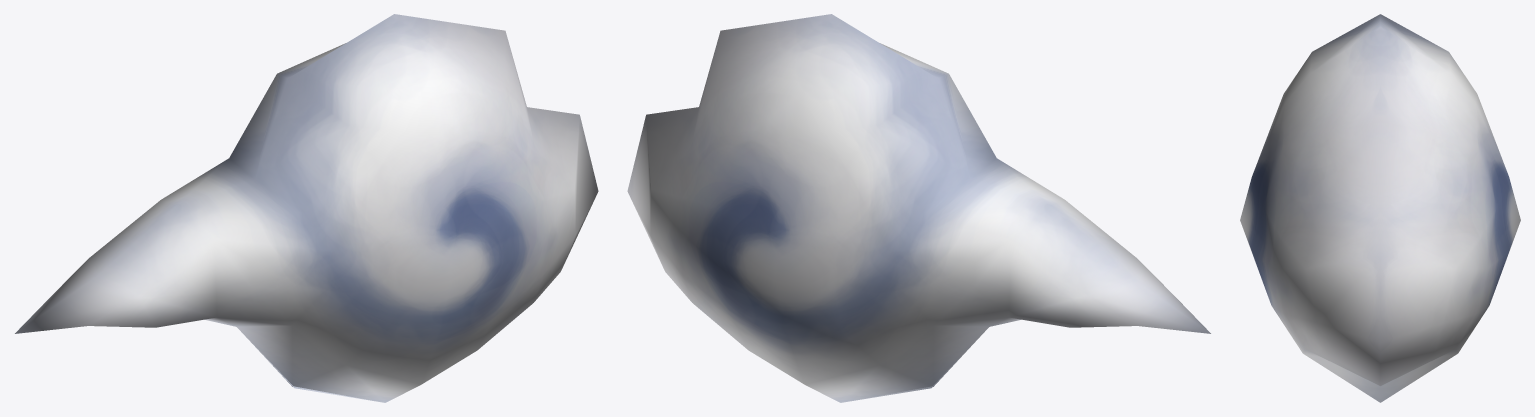
Rendered from Mist-Mesh.fbx.
3 views of the same model, side by side, from view 1: azimuth 30°, elevation 25°; view 2: azimuth 150°, elevation 25°; view 3: azimuth 270°, elevation 25° (orthographic). The views are drawn at different scales.
Parts seen in each view (by area): view 1: Mist-Mesh; view 2: Mist-Mesh; view 3: Mist-Mesh.
Boxes of the visible parts, left/top/right/bottom form: Mist-Mesh: left=15, top=14, right=598, bottom=402; Mist-Mesh: left=627, top=14, right=1210, bottom=402; Mist-Mesh: left=1240, top=14, right=1520, bottom=402.
Bounding box in the file's own units: 1391 × 880 × 600.
Materials: 1 (1 with a texture image).
